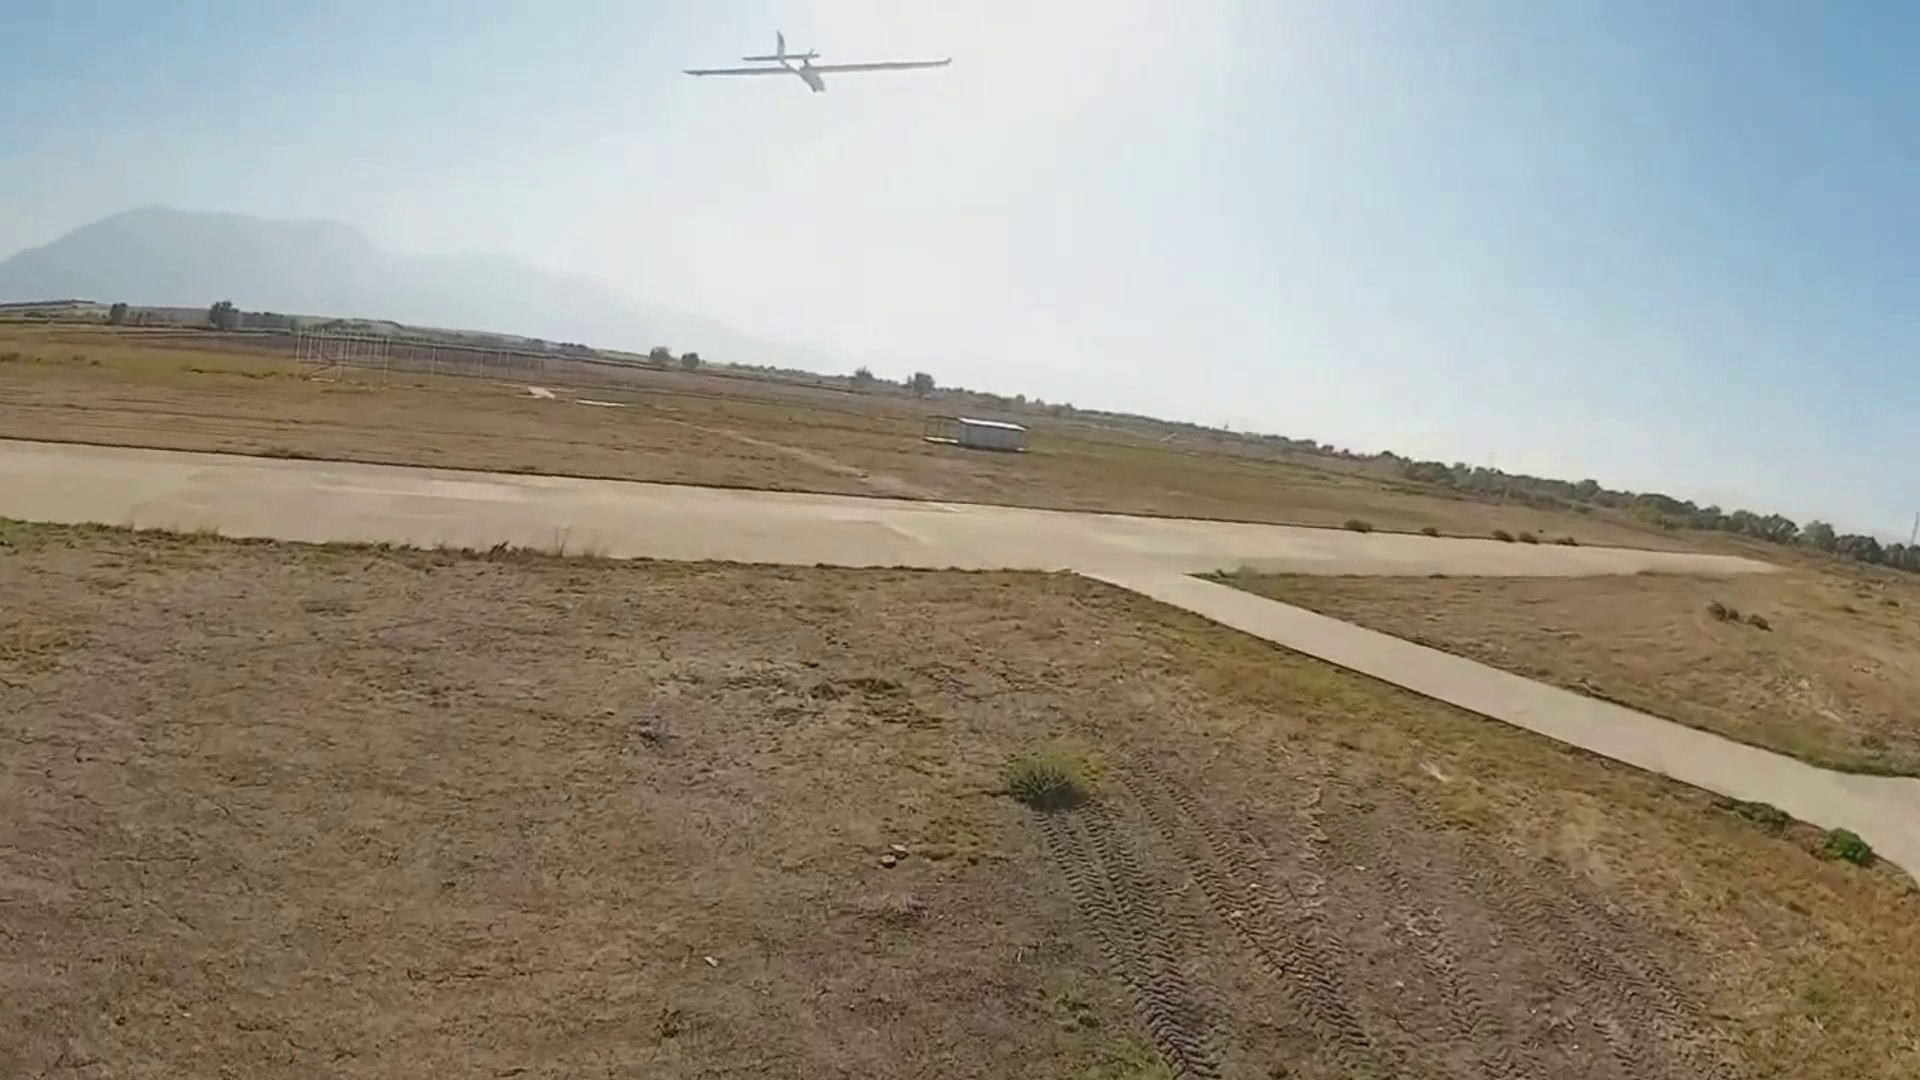airplane: (680, 22, 953, 91)
